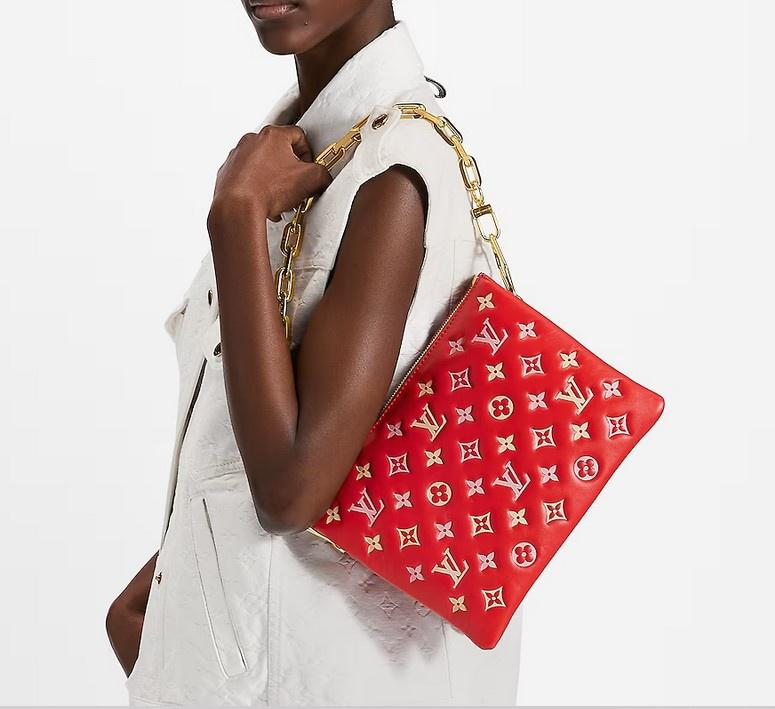LOUIS-VUITTON: (306, 279, 671, 657)
